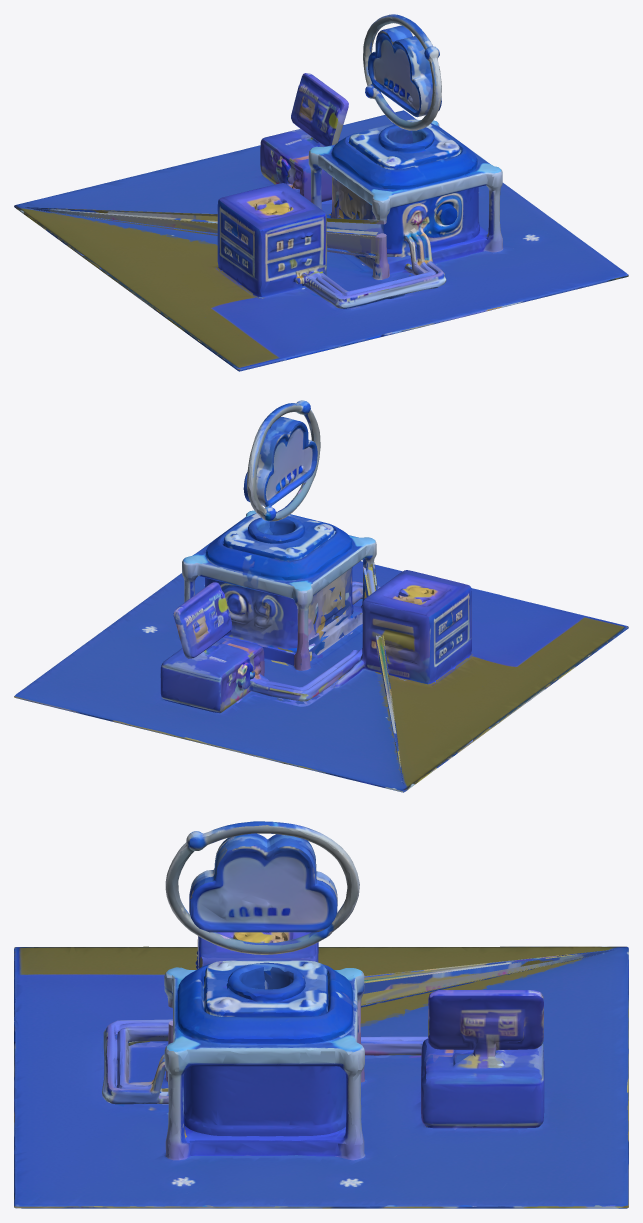
3 renders of one model, top to bottom at view 1: azimuth 30°, elevation 25°; view 2: azimuth 150°, elevation 25°; view 3: azimuth 270°, elevation 25°, orthographic. The views are drawn at different scales.
Visible parts, largest first — view 1: textured_mesh; view 2: textured_mesh; view 3: textured_mesh.
Part boxes in pixels (x1,y1,x2,y2): textured_mesh: [14, 14, 628, 371]; textured_mesh: [14, 400, 628, 792]; textured_mesh: [14, 821, 628, 1208].
Size of the model in its own units: 1.99 by 1.08 by 1.99.
Materials: 1 (1 with a texture image).
